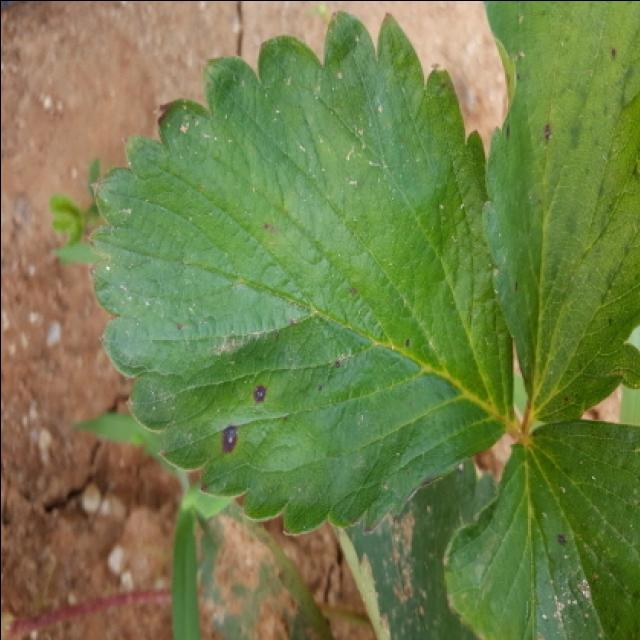Leaf Spot: (87, 10, 514, 534), (480, 2, 640, 421), (439, 418, 640, 640)
